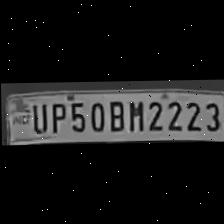0: (85, 98, 105, 132)
2: (162, 97, 182, 132), (181, 98, 201, 132), (144, 98, 162, 133)
3: (200, 99, 220, 132)
5: (65, 98, 84, 132)
B: (105, 96, 125, 132)
M: (124, 98, 144, 133)
P: (46, 100, 64, 134)
U: (26, 101, 46, 134)
